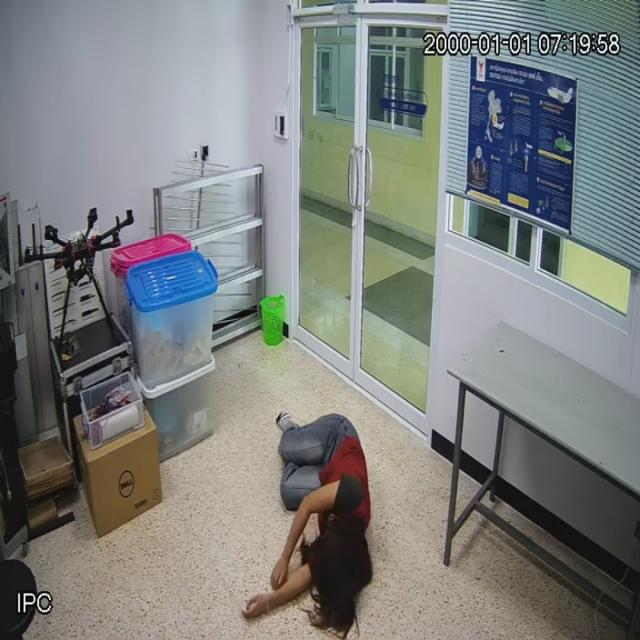fall: (250, 414, 370, 622)
